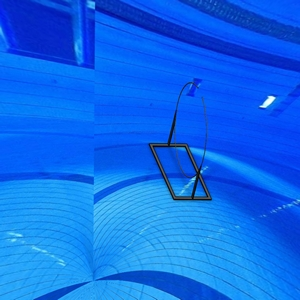circle: (148, 82, 213, 204)
